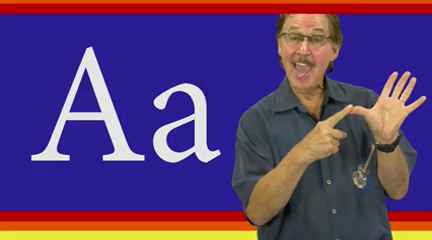A: (291, 69, 430, 162)
